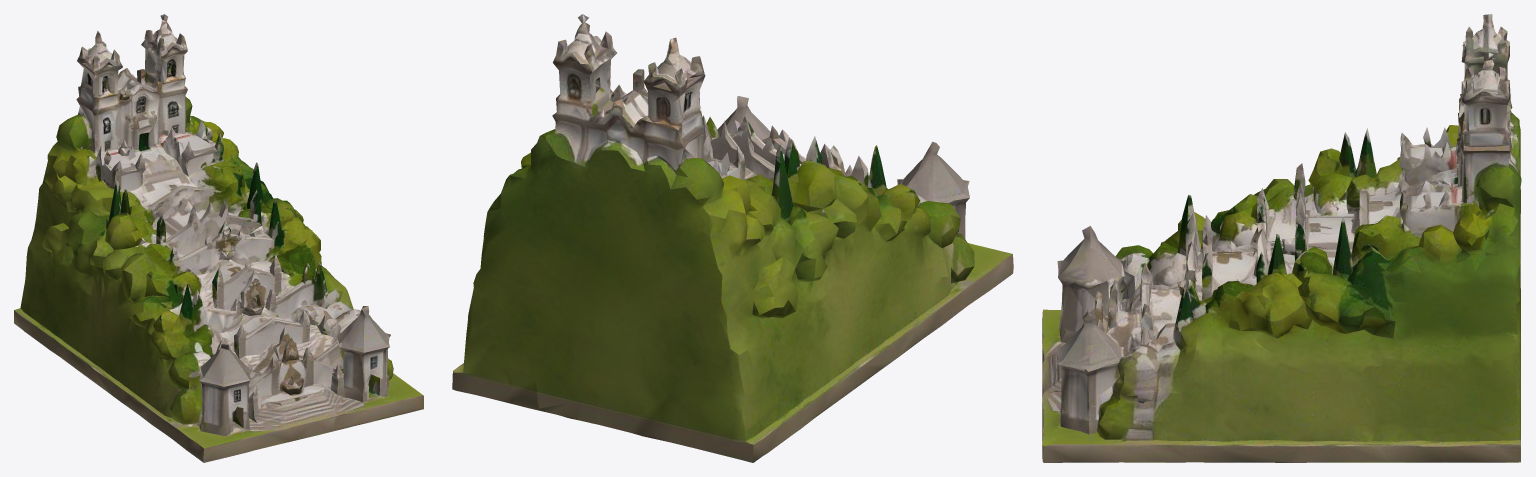
The model's file is bom-jesus-braga.glb.
3 renders of one model, left to right at view 1: azimuth 30°, elevation 25°; view 2: azimuth 150°, elevation 25°; view 3: azimuth 270°, elevation 25°, orthographic. The views are drawn at different scales.
Parts seen in each view (by area): view 1: logan-textured.obj; view 2: logan-textured.obj; view 3: logan-textured.obj.
Part boxes in pixels (box(x1,y1,x2,y2)): logan-textured.obj: box(14, 14, 423, 462); logan-textured.obj: box(452, 14, 1013, 462); logan-textured.obj: box(1042, 14, 1521, 462).
Size of the model in its own units: 0.6733 by 0.8289 by 1.
Materials: 1 (1 with a texture image).
